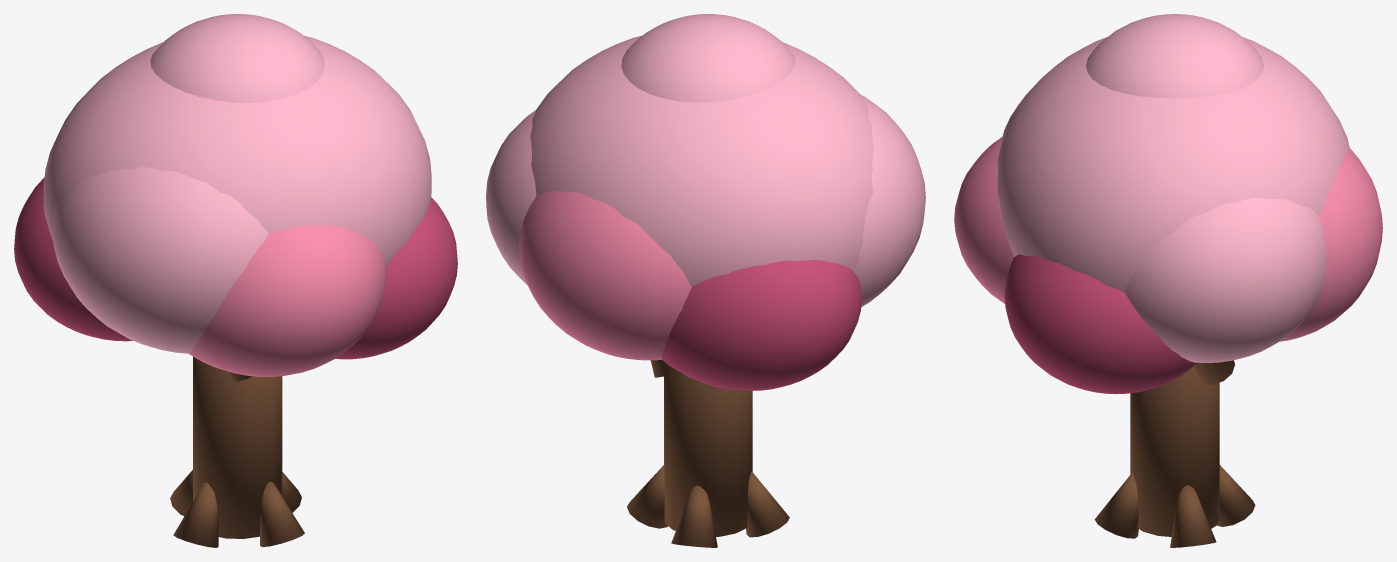
The model's file is tree_cherry.glb.
The picture shows the model from 3 angles, left to right: view 1: azimuth 30°, elevation 25°; view 2: azimuth 150°, elevation 25°; view 3: azimuth 270°, elevation 25°; orthographic projection.
Parts seen in each view (by area): view 1: FoliagePuff_0, FoliagePuff_2, FoliagePuff_4, TrunkBase, FoliagePuff_7, FoliagePuff_5, FoliagePuff_6, Root_2, Root_3, Root_1; view 2: FoliagePuff_0, FoliagePuff_3, FoliagePuff_6, TrunkBase, FoliagePuff_7, FoliagePuff_2, FoliagePuff_1, Root_1, Root_2, Root_0; view 3: FoliagePuff_0, FoliagePuff_1, FoliagePuff_5, TrunkBase, FoliagePuff_7, FoliagePuff_3, FoliagePuff_4, Root_0, Root_3, Root_1, Branch1.
Boxes of the visible parts, <box> form: FoliagePuff_0: <box>43,35,431,266</box>; FoliagePuff_2: <box>52,166,268,353</box>; FoliagePuff_4: <box>189,225,386,376</box>; TrunkBase: <box>193,356,282,538</box>; FoliagePuff_7: <box>150,14,324,102</box>; FoliagePuff_5: <box>335,197,457,359</box>; FoliagePuff_6: <box>14,177,133,341</box>; Root_2: <box>173,482,218,547</box>; Root_3: <box>260,481,304,547</box>; Root_1: <box>170,470,192,516</box>; FoliagePuff_0: <box>530,35,873,286</box>; FoliagePuff_3: <box>519,191,691,360</box>; FoliagePuff_6: <box>661,260,861,390</box>; TrunkBase: <box>664,372,752,536</box>; FoliagePuff_7: <box>621,14,795,102</box>; FoliagePuff_2: <box>853,95,925,306</box>; FoliagePuff_1: <box>486,110,536,285</box>; Root_1: <box>671,485,717,547</box>; Root_2: <box>746,472,789,537</box>; Root_0: <box>627,465,667,528</box>; FoliagePuff_0: <box>997,37,1349,292</box>; FoliagePuff_1: <box>1124,198,1325,362</box>; FoliagePuff_5: <box>1004,254,1197,394</box>; TrunkBase: <box>1130,366,1219,536</box>; FoliagePuff_7: <box>1086,14,1263,98</box>; FoliagePuff_3: <box>1280,148,1382,341</box>; FoliagePuff_4: <box>954,136,1014,303</box>; Root_0: <box>1170,485,1216,547</box>; Root_3: <box>1094,472,1138,538</box>; Root_1: <box>1216,465,1255,526</box>; Branch1: <box>1194,360,1234,384</box>.
Bounding box in the file's own units: 4.44 × 5.73 × 4.42.
